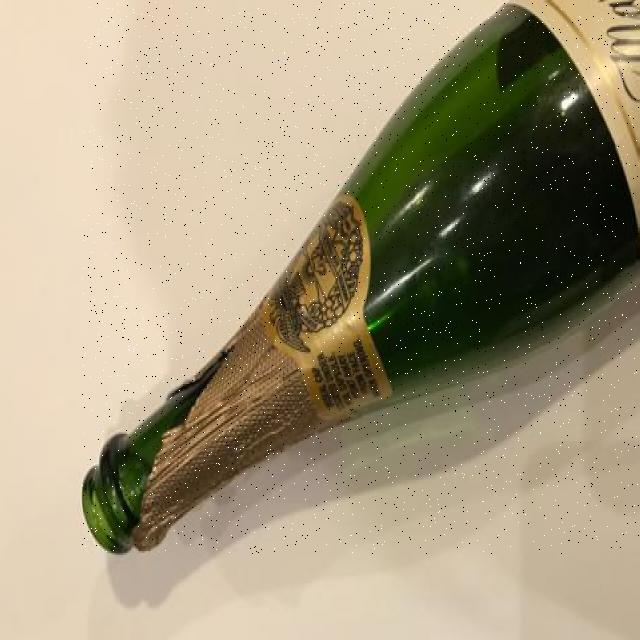glass: (82, 2, 639, 554)
